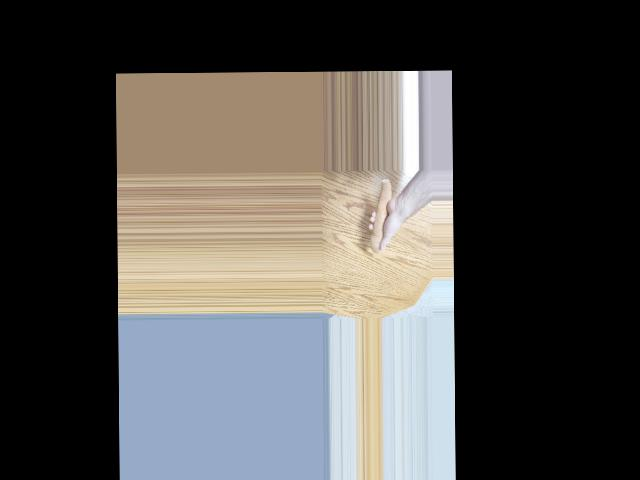sweet_potato: (368, 175, 395, 252)
